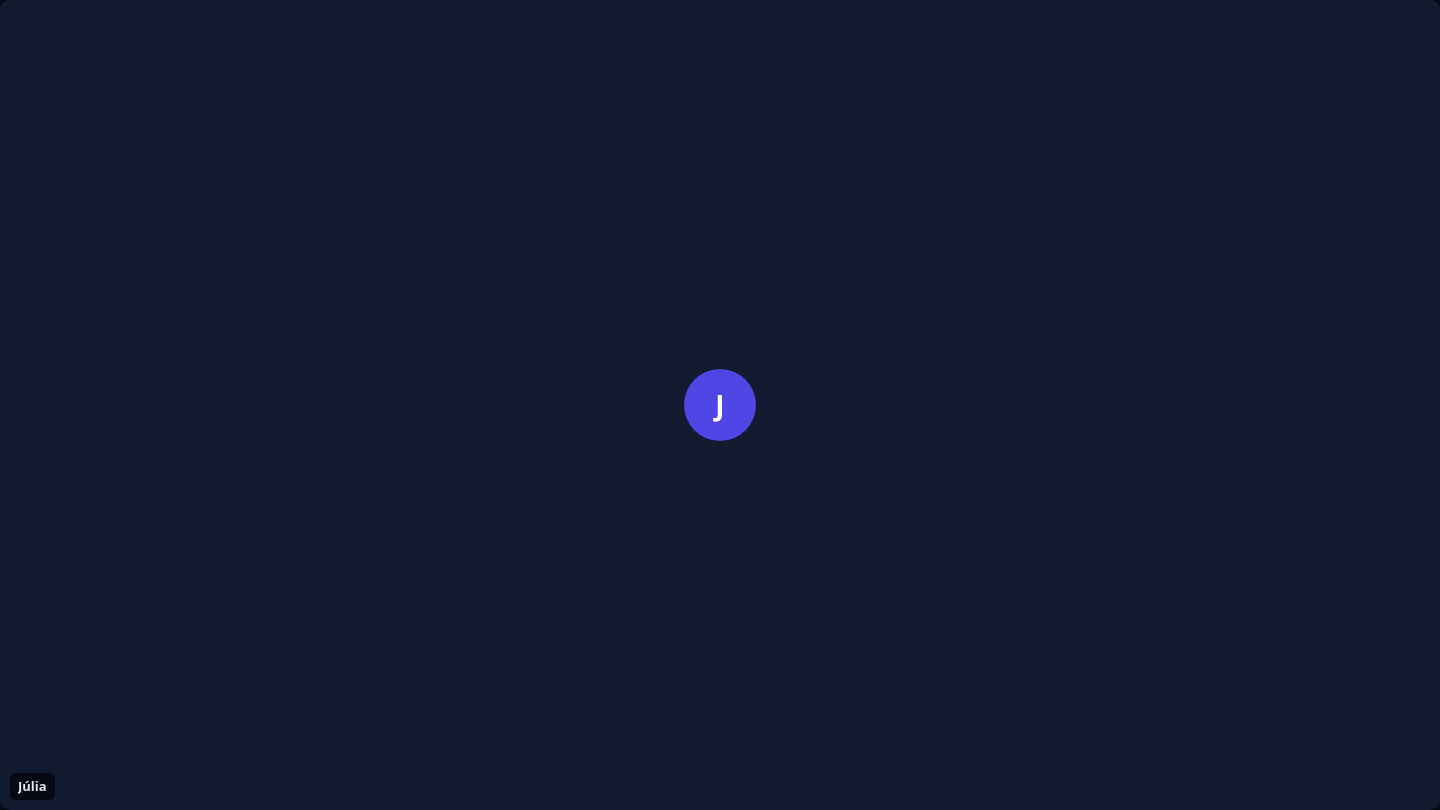
Test case: o bloco da pessoa na grade › clicar no bloco de outra pessoa abre só o volume dela
The width and height of the screenshot is (1440, 810).
Click the button with aria-label "Volume de Júlia" at (86, 405), box [0,0,1439,809]
(page scrolled)
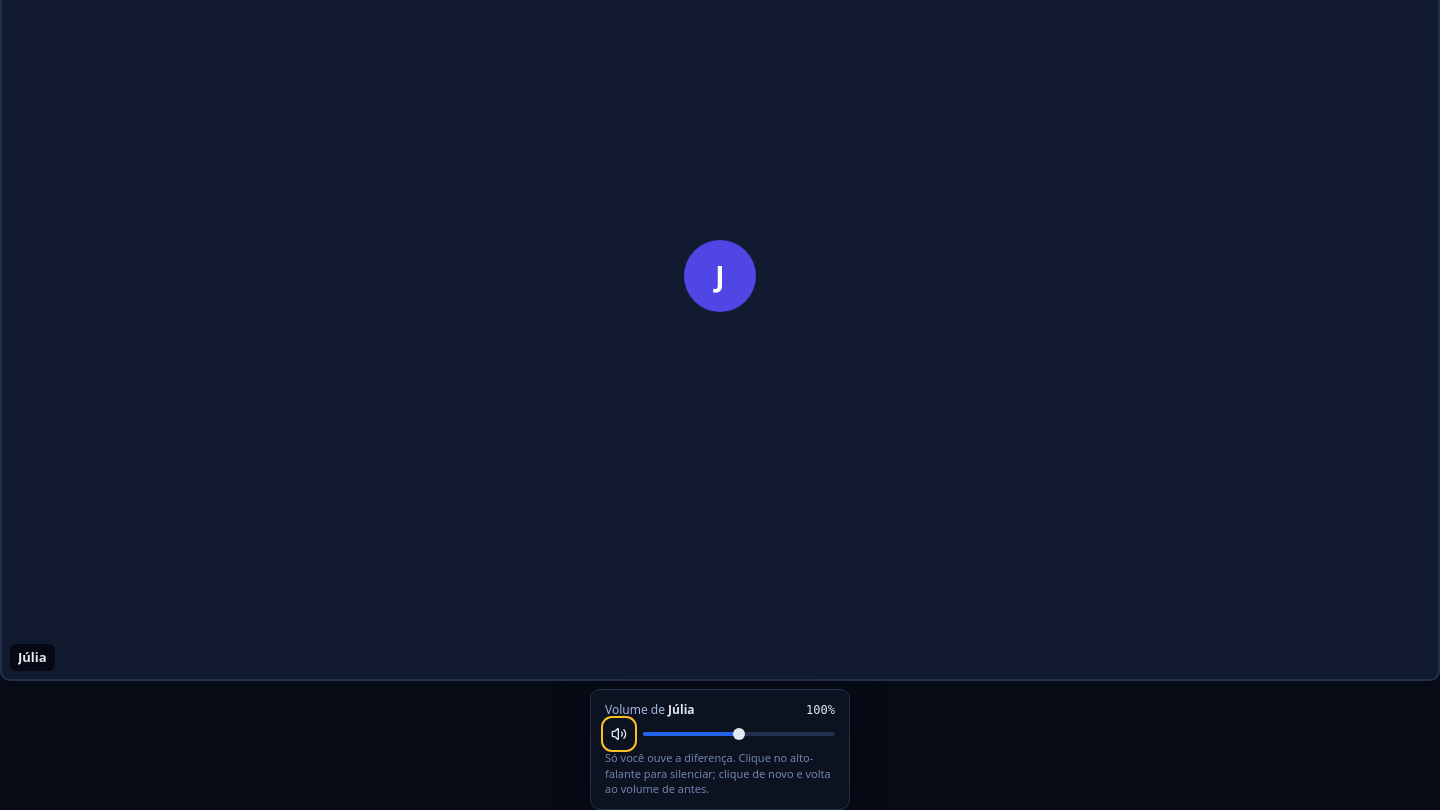
expect the slider named "Volume de Júlia" is shown: met, box [733,728,745,740]
